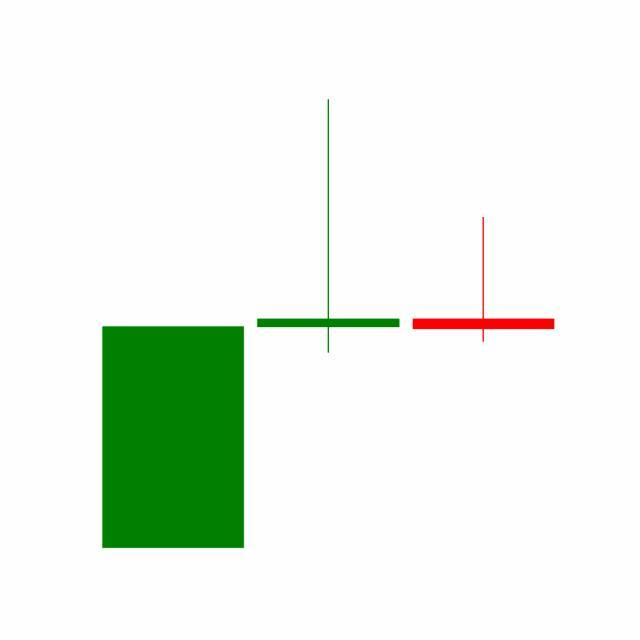Gravestone Doji: (406, 215, 562, 344)
